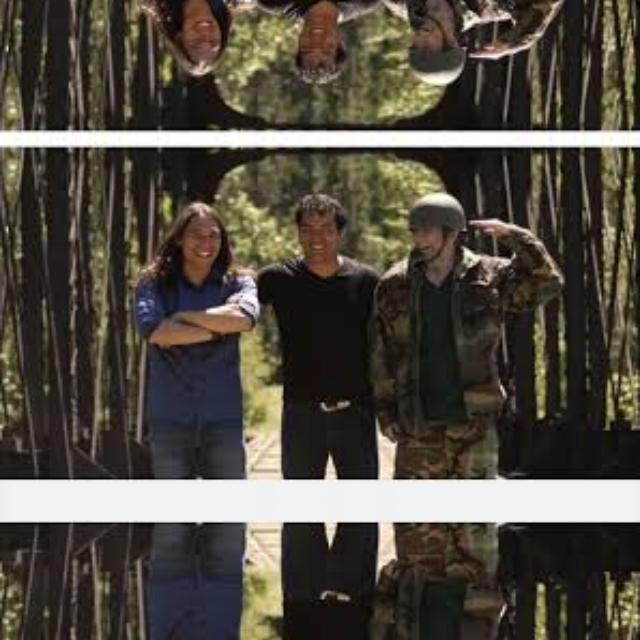person: (384, 172, 548, 500), (132, 193, 280, 492), (274, 184, 384, 476), (384, 502, 547, 640), (132, 510, 280, 640), (384, 0, 547, 104), (274, 525, 384, 640), (132, 0, 280, 83), (274, 0, 384, 92)
